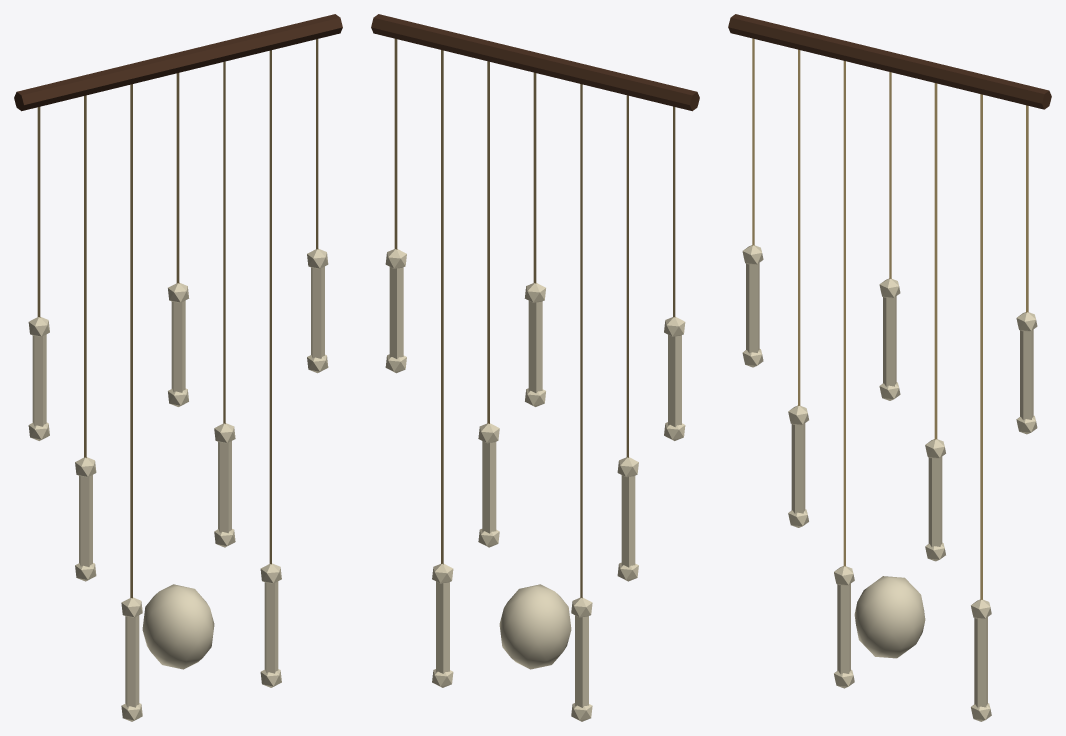
File: bone_chimes.glb
The picture shows the model from 3 angles, left to right: view 1: azimuth 30°, elevation 25°; view 2: azimuth 150°, elevation 25°; view 3: azimuth 330°, elevation 25°; orthographic projection.
Parts seen in each view (by area): view 1: bone_chimes; view 2: bone_chimes; view 3: bone_chimes.
Part boxes in pixels (left/top/right/bottom): bone_chimes: left=14, top=14, right=342, bottom=721; bone_chimes: left=371, top=14, right=699, bottom=721; bone_chimes: left=728, top=14, right=1051, bottom=721.
Size of the model in its own units: 1.1 by 2.16 by 0.24.
